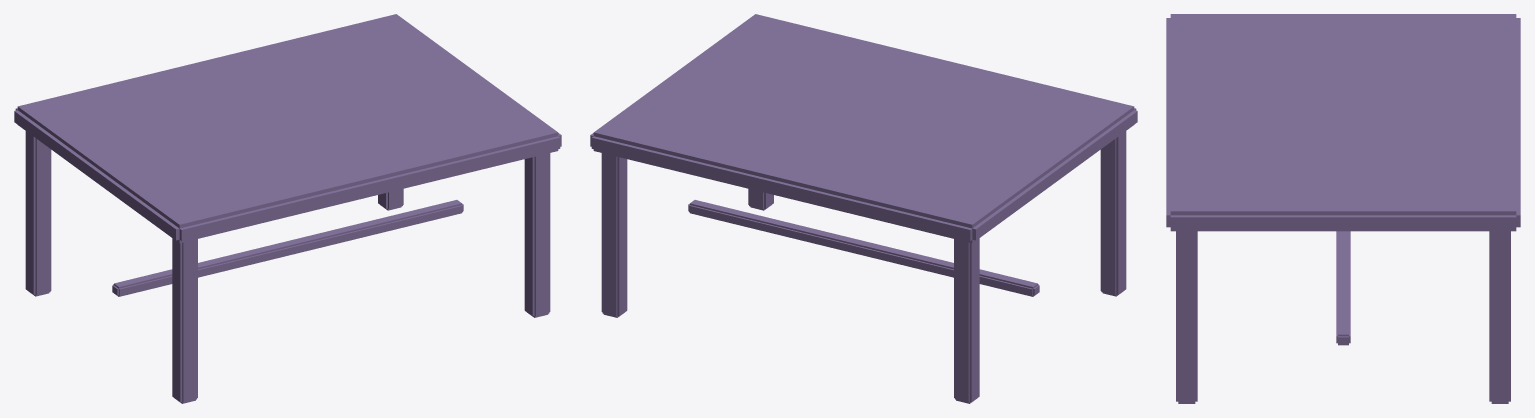
The model's file is ebonwood_table_v0.glb.
The picture shows the model from 3 angles, left to right: view 1: azimuth 30°, elevation 25°; view 2: azimuth 150°, elevation 25°; view 3: azimuth 270°, elevation 25°; orthographic projection. The views are drawn at different scales.
Parts seen in each view (by area): view 1: ebonwood_table_v0; view 2: ebonwood_table_v0; view 3: ebonwood_table_v0.
Boxes of the visible parts, left/top/right/bottom form: ebonwood_table_v0: left=14, top=14, right=561, bottom=403; ebonwood_table_v0: left=590, top=14, right=1137, bottom=403; ebonwood_table_v0: left=1166, top=14, right=1520, bottom=403.
Bounding box in the file's own units: 1.96 × 0.89 × 1.46.
